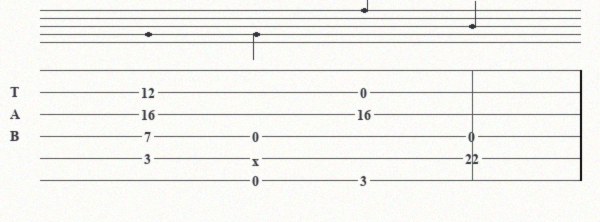0: (252, 173, 263, 187), (252, 129, 263, 143), (360, 85, 371, 99), (468, 129, 479, 143)
12: (141, 85, 159, 99)
16: (141, 107, 159, 121), (357, 107, 375, 121)
22: (465, 151, 483, 165)
3: (144, 151, 155, 165), (360, 173, 371, 187)
7: (144, 129, 155, 143)
x: (252, 153, 263, 164)
